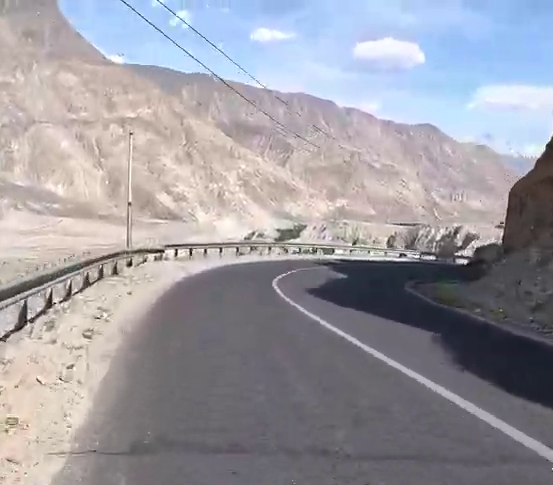stright: (162, 218, 506, 406)
